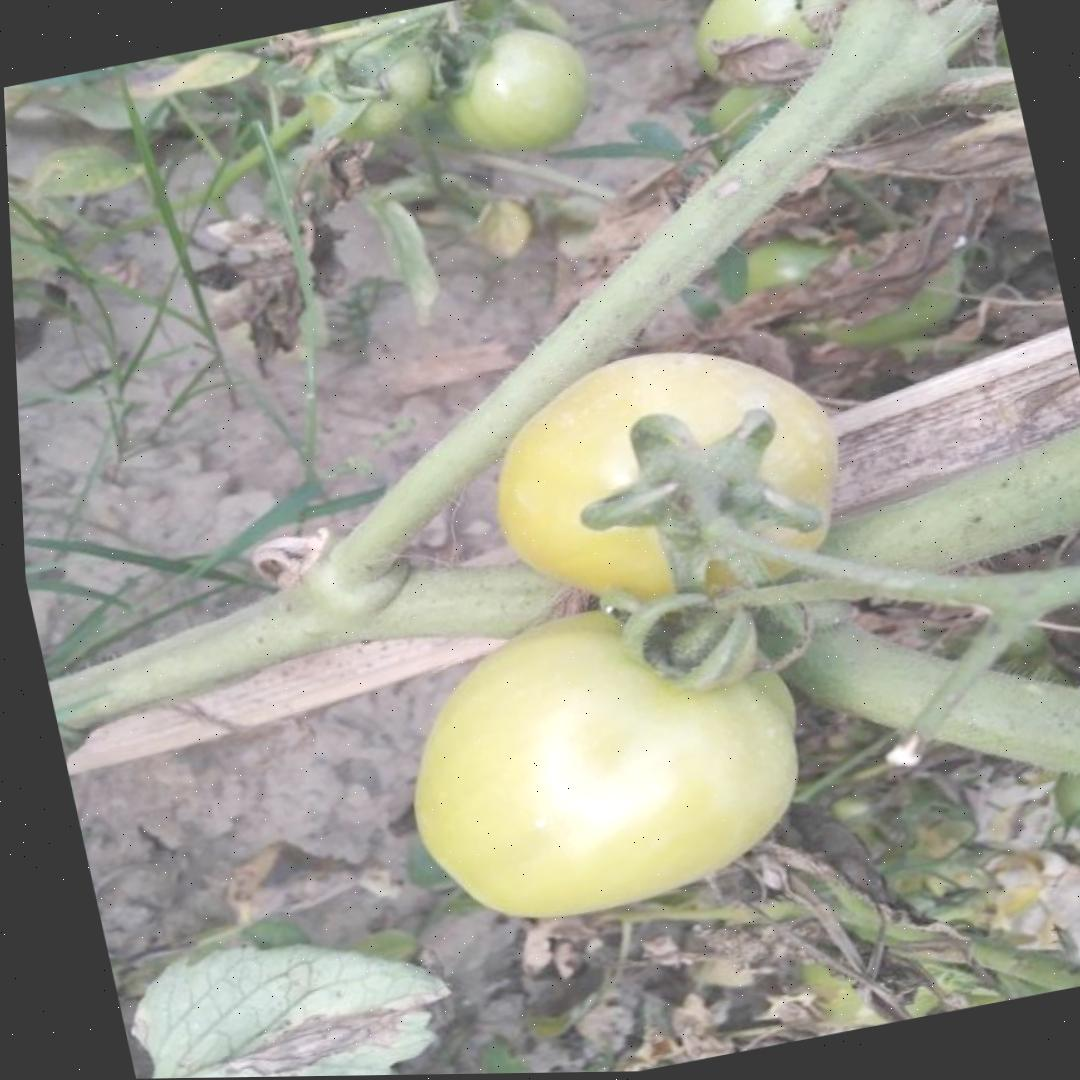mentah: (372, 576, 834, 942), (428, 16, 604, 167)
setengah_matang: (465, 320, 871, 643)
